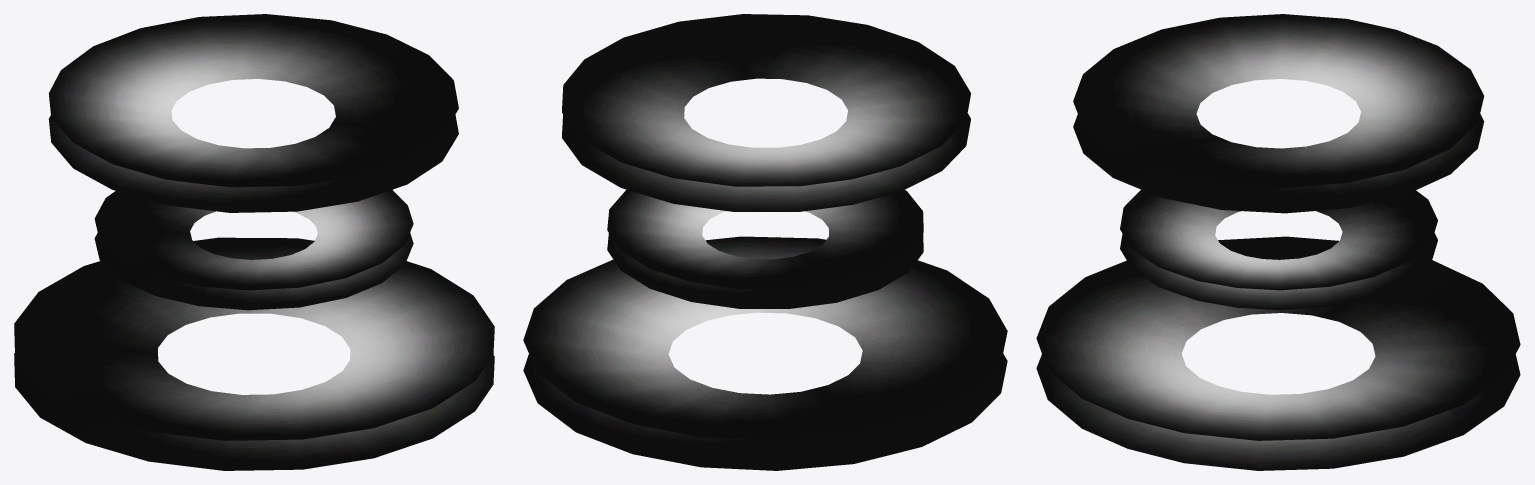
File: vfx_kurp_0545.dae
3 views of the same model, side by side, from view 1: azimuth 30°, elevation 25°; view 2: azimuth 150°, elevation 25°; view 3: azimuth 270°, elevation 25° (orthographic).
Visible parts, largest first — view 1: vfx_kurp_0545; view 2: vfx_kurp_0545; view 3: vfx_kurp_0545.
Part boxes in pixels (<box>): vfx_kurp_0545: <box>14,14,494,470</box>; vfx_kurp_0545: <box>523,14,1007,470</box>; vfx_kurp_0545: <box>1036,14,1520,470</box>.
Bounding box in the file's own units: 7.69 × 7.7 × 4.7.
1 material, 1 textured.
